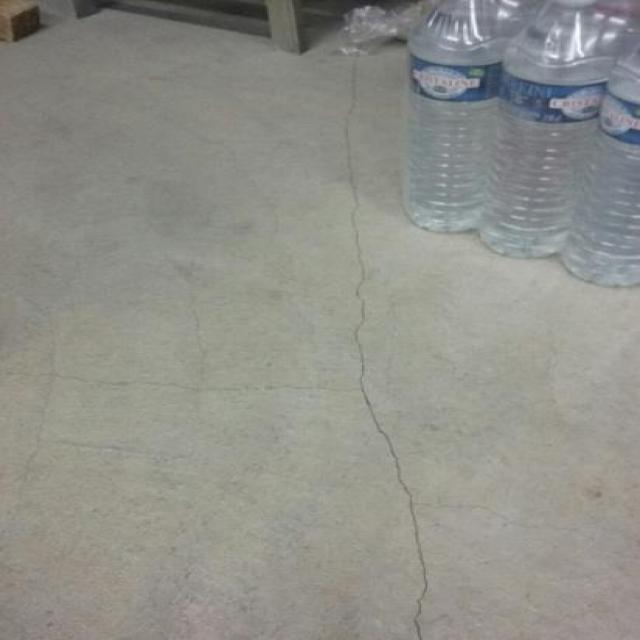crack: (344, 55, 430, 638), (34, 364, 351, 394)
